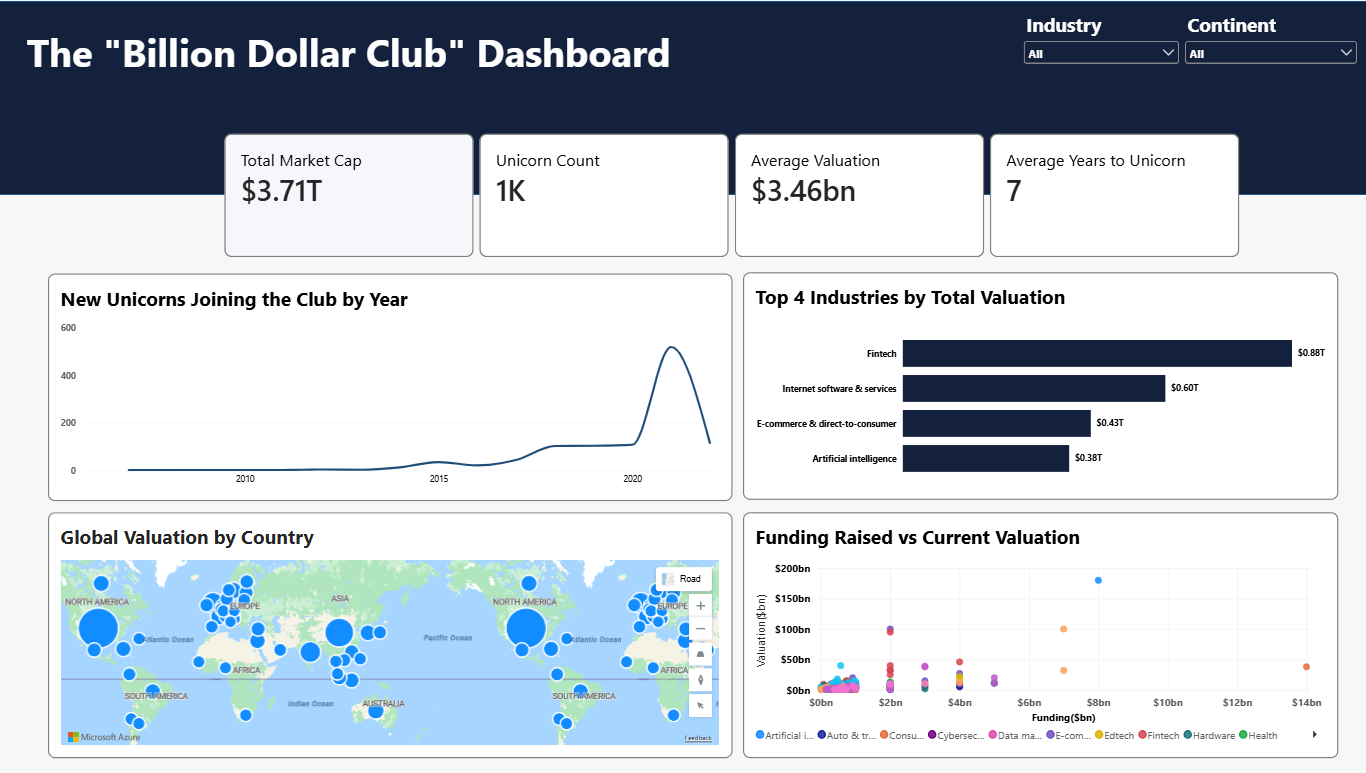

The dashboard page shown, as its layout file describes it:
{"tool":"powerbi","page":{"name":"Page 1","canvas":[1920,1080],"ordinal":0},"visuals":[{"type":"shape","box":[0,0,1920.1,271.4],"z":0},{"type":"cardVisual","fields":{"Data":["#Measures.Total Market Cap","#Measures.Unicorn Count","#Measures.Average Valuation","#Measures.Average Years to Unicorn"]},"box":[316.7,184.6,1422.4,173.7],"z":1000},{"type":"lineChart","title":"New Unicorns Joining the Club by Year","fields":{"Category":["DimDateTable.Year"],"Y":["#Measures.Unicorn Count"]},"box":[70.6,381.8,957.3,318.5],"z":2000},{"type":"barChart","title":"Top 4 Industries by Total Valuation","fields":{"Category":["Unicorn_Companies.Industry"],"Y":["Sum(Unicorn_Companies.Valuation)"]},"box":[1042.4,380,832.4,318.5],"z":3000},{"type":"azureMap","title":"Global Valuation by Country","fields":{"Category":["Unicorn_Companies.Country"],"Size":["#Measures.Total Market Cap"]},"box":[70.6,714.8,957.3,343.8],"z":4000},{"type":"slicer","fields":{"Values":["Unicorn_Companies.Industry"]},"box":[1429.6,14.5,226.2,79.6],"z":5000},{"type":"slicer","fields":{"Values":["Unicorn_Companies.Continent"]},"box":[1655.8,14.5,249.7,81.4],"z":6000},{"type":"scatterChart","title":"Funding Raised vs Current Valuation","fields":{"Category":["Unicorn_Companies.Company"],"Series":["Unicorn_Companies.Industry"],"X":["Sum(Unicorn_Companies.Funding)"],"Y":["Sum(Unicorn_Companies.Valuation)"]},"box":[1042.4,714.8,832.4,343.8],"z":7000},{"type":"textbox","box":[39.8,34.4,1236,94.1],"z":8000}]}

Visuals, with their boxes in screenshot pixels (x1, y1, x2, y2), scaled from the page's 1920x1080 canvas onto the 1366x773 screenshot:
shape: crop(0, 0, 1365, 194)
cardVisual - #Measures.Total Market Cap x #Measures.Unicorn Count: crop(225, 132, 1237, 256)
"New Unicorns Joining the Club by Year" lineChart: crop(50, 273, 731, 501)
"Top 4 Industries by Total Valuation" barChart: crop(742, 272, 1334, 500)
"Global Valuation by Country" azureMap: crop(50, 512, 731, 758)
slicer - Unicorn_Companies.Industry: crop(1017, 10, 1178, 67)
slicer - Unicorn_Companies.Continent: crop(1178, 10, 1356, 69)
"Funding Raised vs Current Valuation" scatterChart: crop(742, 512, 1334, 758)
textbox: crop(28, 25, 908, 92)
